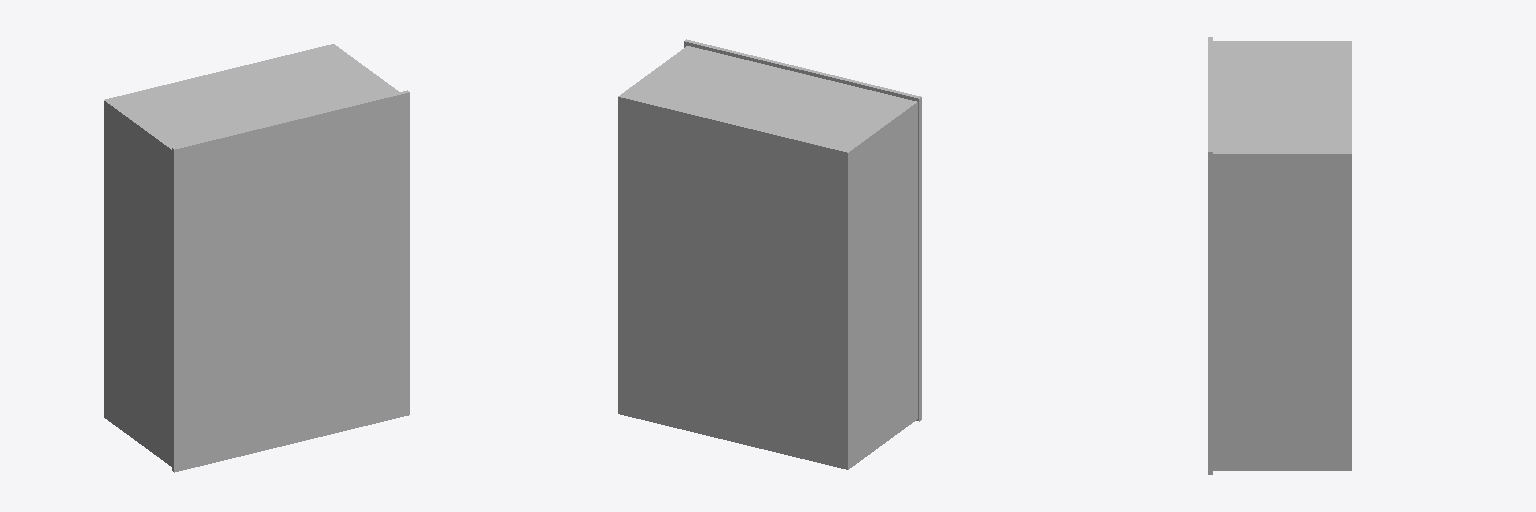
The model's file is hozkorpus.obj.
The picture shows the model from 3 angles: view 1: azimuth 30°, elevation 25°; view 2: azimuth 150°, elevation 25°; view 3: azimuth 270°, elevation 25°; orthographic projection.
Visible parts, largest first — view 1: Box02, Box01; view 2: Box01, Box02; view 3: Box01, Box02.
Part boxes in pixels (x1,y1,x2,y2): Box02: (172,90,409,472); Box01: (104,44,398,466); Box01: (618,46,917,469); Box02: (684,39,921,421); Box01: (1213,41,1351,470); Box02: (1208,37,1212,474).
Size of the model in its own units: 59.73 by 78.21 by 31.75.